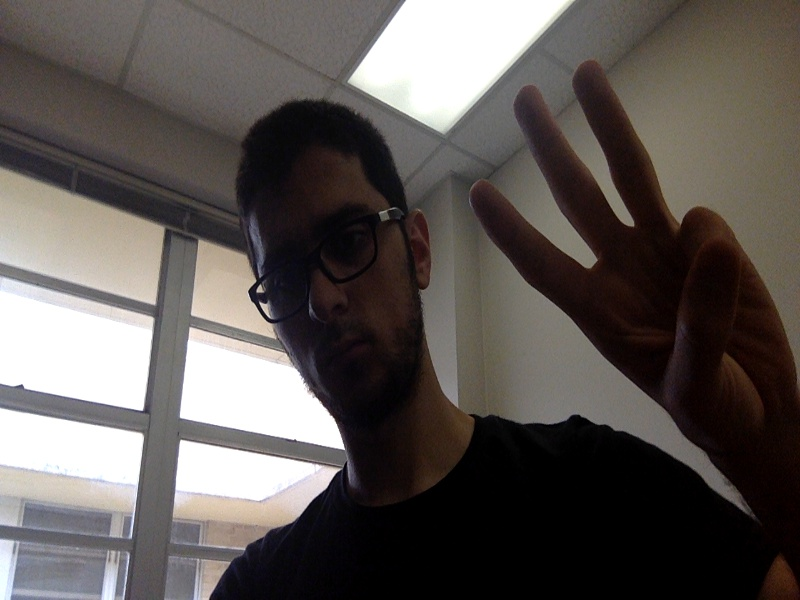3-hand: (471, 62, 797, 437)
